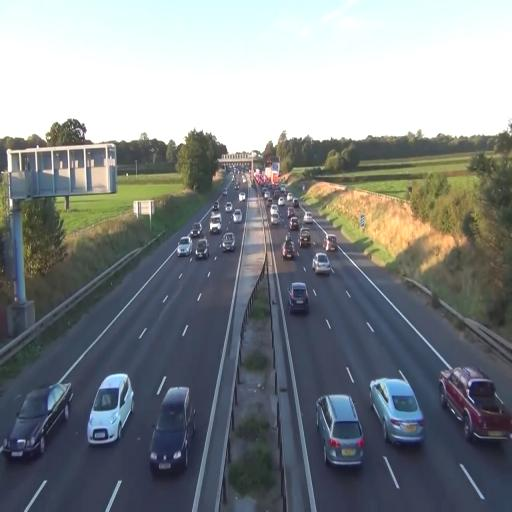vehicle: (3, 378, 73, 461), (440, 367, 512, 444), (148, 386, 196, 477), (370, 375, 426, 448), (314, 392, 364, 468), (87, 372, 134, 446), (288, 282, 310, 315), (312, 252, 332, 276), (282, 234, 296, 260), (194, 238, 209, 260), (221, 231, 236, 252), (324, 232, 338, 254), (177, 238, 191, 256), (300, 225, 312, 246), (232, 207, 244, 224)
